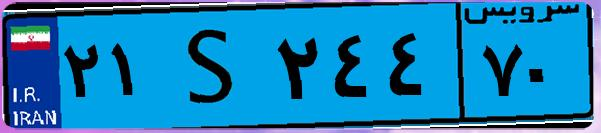0: (525, 38, 570, 115)
1: (110, 28, 158, 98)
2: (270, 28, 330, 110), (57, 26, 110, 100)
4: (385, 28, 445, 110), (330, 28, 385, 110)
7: (475, 38, 525, 113)
S: (158, 12, 270, 120)
